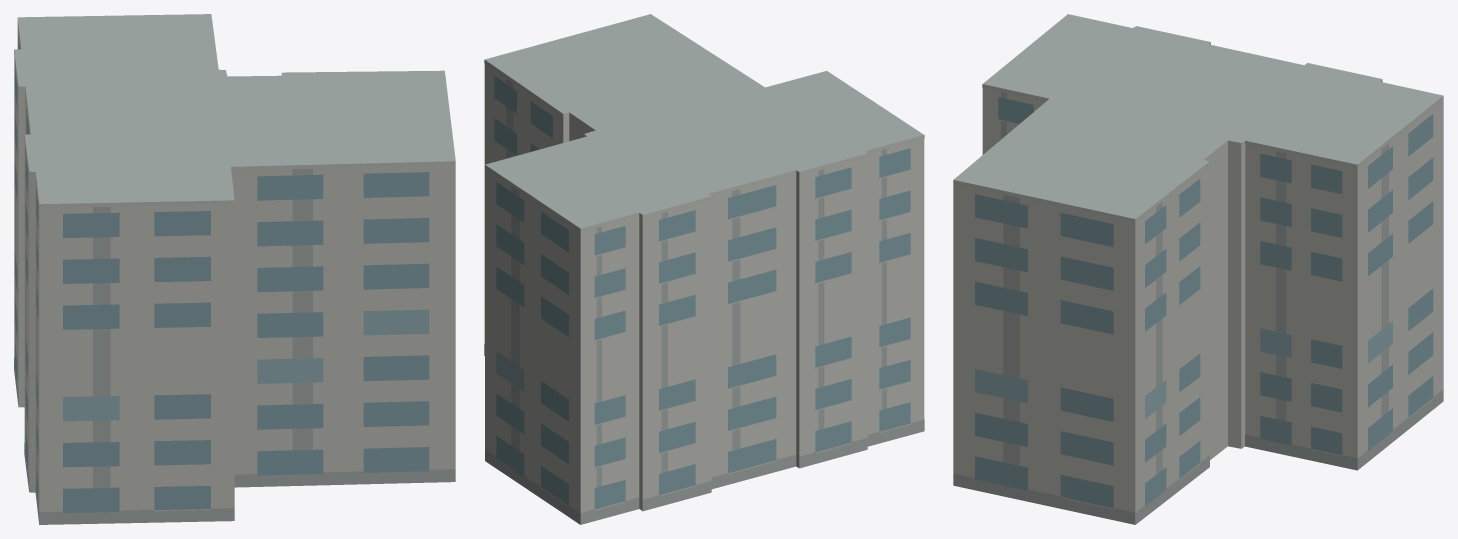
The model's file is survey-upis-32560300.glb.
The picture shows the model from 3 angles, left to right: view 1: azimuth 30°, elevation 25°; view 2: azimuth 150°, elevation 25°; view 3: azimuth 270°, elevation 25°; orthographic projection. The views are drawn at different scales.
Parts seen in each view (by area): view 1: survey-upis-32560300.tmp; view 2: survey-upis-32560300.tmp; view 3: survey-upis-32560300.tmp.
Boxes of the visible parts, left/top/right/bottom form: survey-upis-32560300.tmp: left=14, top=14, right=455, bottom=524; survey-upis-32560300.tmp: left=484, top=14, right=924, bottom=524; survey-upis-32560300.tmp: left=953, top=14, right=1443, bottom=524.
Bounding box in the file's own units: 28.06 × 19.5 × 28.34.
